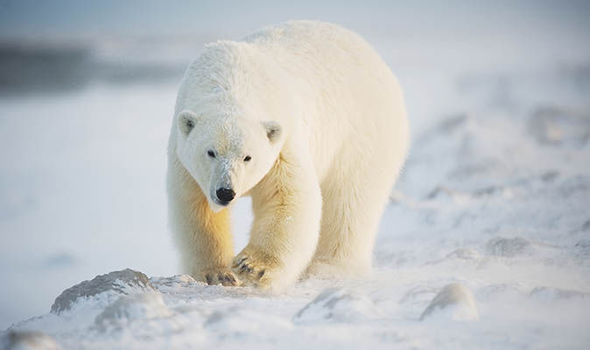Polar Bear: (145, 15, 449, 332)
